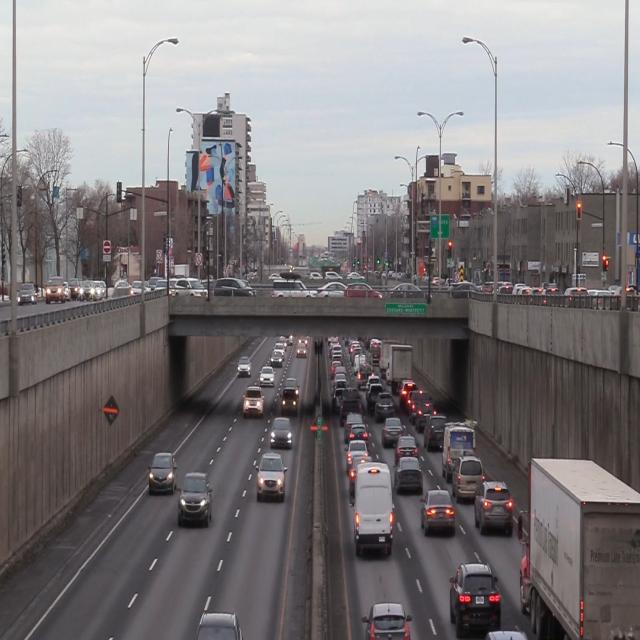Car: (519, 453, 640, 640), (448, 560, 504, 638), (354, 462, 395, 556), (474, 480, 514, 538), (363, 602, 414, 640), (441, 422, 477, 475), (180, 472, 213, 528), (452, 454, 485, 508), (420, 489, 455, 536), (257, 453, 287, 503), (396, 454, 426, 496), (150, 450, 177, 495), (270, 418, 293, 450), (243, 388, 265, 418), (396, 435, 419, 458), (281, 389, 299, 414)
